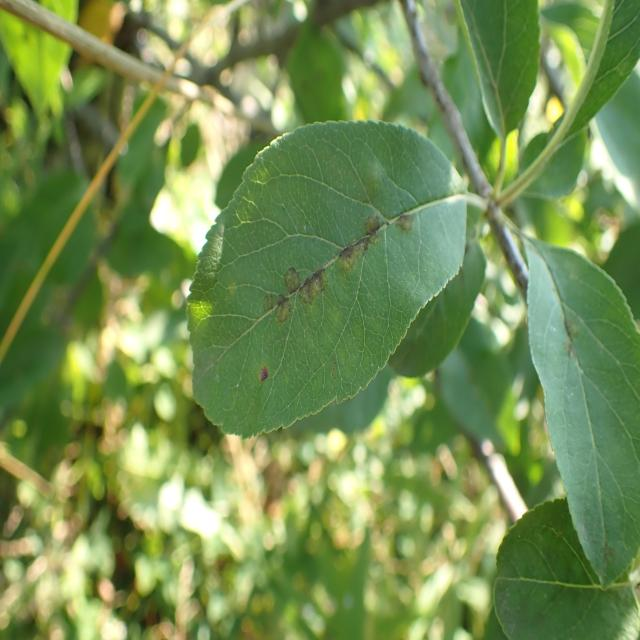scab: (239, 185, 430, 393), (538, 261, 600, 447)
